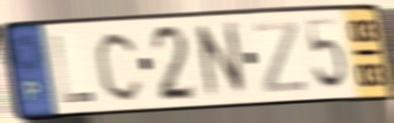2: (151, 23, 198, 102)
5: (303, 15, 350, 93)
C: (94, 28, 146, 104)
L: (49, 33, 98, 106)
N: (191, 18, 251, 103)
Z: (252, 18, 308, 96)
